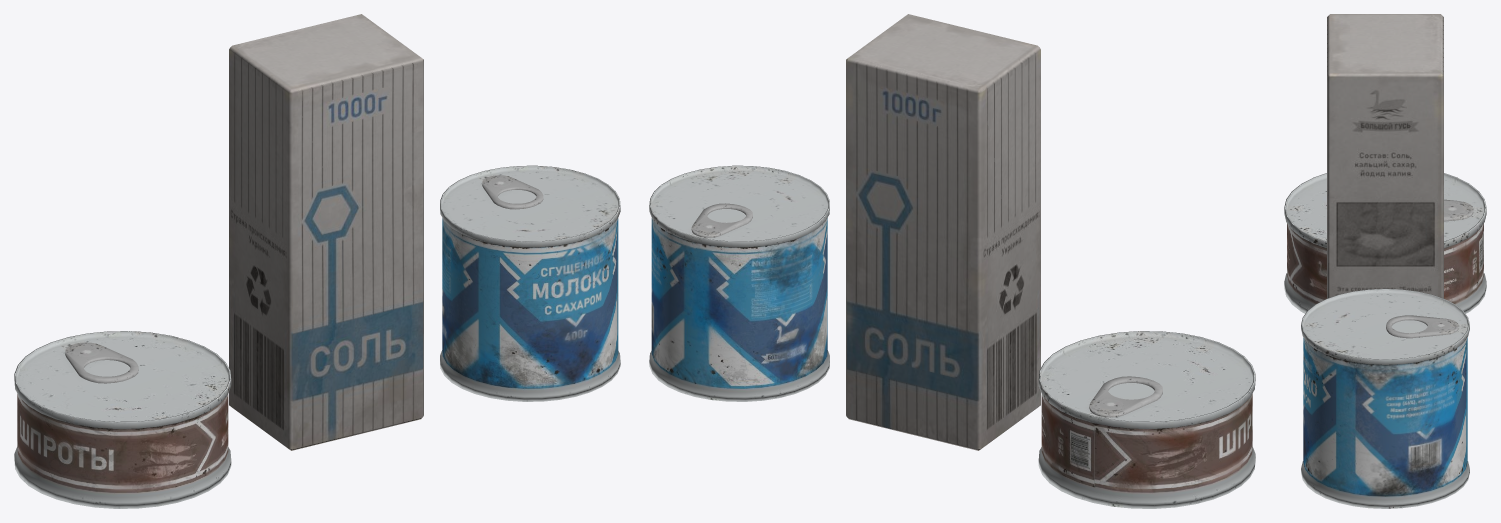
Rendered from prod_tins.glb.
The picture shows the model from 3 angles, left to right: view 1: azimuth 30°, elevation 25°; view 2: azimuth 150°, elevation 25°; view 3: azimuth 270°, elevation 25°; orthographic projection. The views are drawn at different scales.
Parts seen in each view (by area): view 1: russian_food_cans_01_salt_box, russian_food_cans_01_can_cond, russian_food_cans_01_can_fish; view 2: russian_food_cans_01_salt_box, russian_food_cans_01_can_cond, russian_food_cans_01_can_fish; view 3: russian_food_cans_01_can_cond, russian_food_cans_01_salt_box, russian_food_cans_01_can_fish.
Part boxes in pixels (x1,y1,x2,y2): russian_food_cans_01_salt_box: (229, 14, 423, 450); russian_food_cans_01_can_cond: (440, 165, 620, 401); russian_food_cans_01_can_fish: (14, 331, 231, 508); russian_food_cans_01_salt_box: (846, 14, 1040, 450); russian_food_cans_01_can_cond: (649, 165, 829, 401); russian_food_cans_01_can_fish: (1038, 331, 1255, 508); russian_food_cans_01_can_cond: (1301, 288, 1469, 508); russian_food_cans_01_salt_box: (1327, 14, 1443, 298); russian_food_cans_01_can_fish: (1284, 173, 1486, 313).
Size of the model in its own units: 0.1424 by 0.0849 by 0.0462.
Materials: 1 (1 with a texture image).
